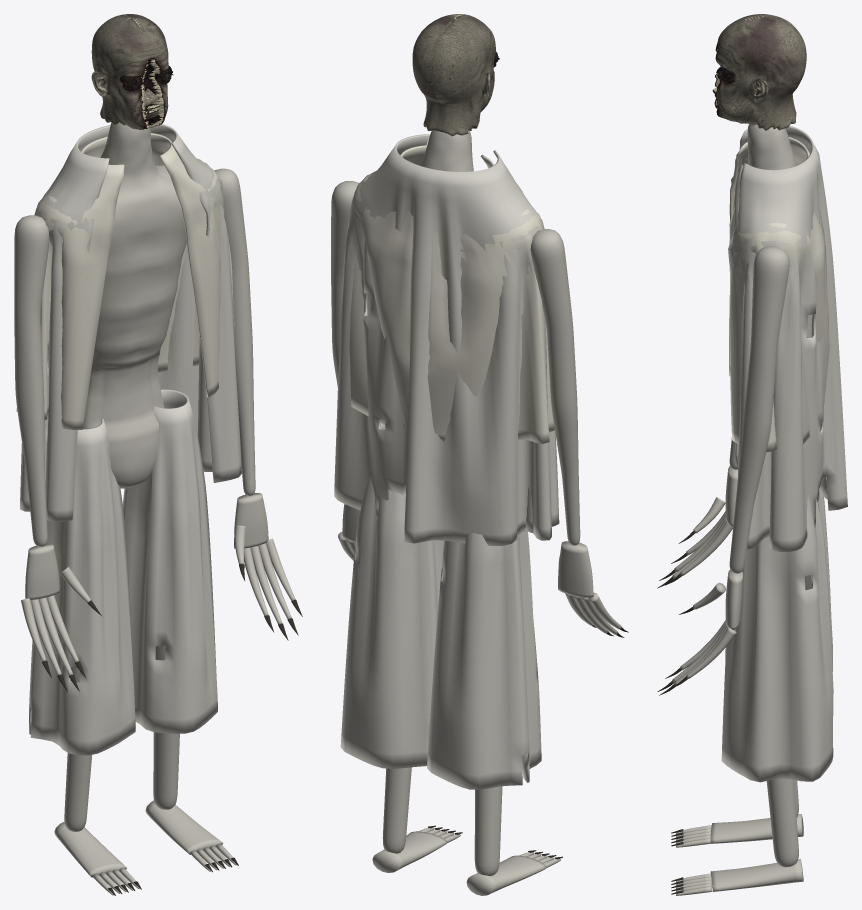
Rendered from visitor-split.glb.
The picture shows the model from 3 angles, left to right: view 1: azimuth 30°, elevation 25°; view 2: azimuth 150°, elevation 25°; view 3: azimuth 270°, elevation 25°; orthographic projection. The views are drawn at different scales.
Parts seen in each view (by area): view 1: Torso, LegR, LegL, ArmL, ArmR, Head; view 2: Torso, LegL, LegR, ArmL, Head, ArmR; view 3: Torso, LegR, ArmR, Head, LegL, ArmL.
Part boxes in pixels (<box>): Torso: <box>16,122,241,522</box>; LegR: <box>123,389,238,872</box>; LegL: <box>29,419,141,895</box>; ArmL: <box>14,215,101,691</box>; ArmR: <box>214,168,302,640</box>; Head: <box>91,14,173,130</box>; Torso: <box>334,130,559,545</box>; LegL: <box>427,531,562,895</box>; LegR: <box>340,423,462,872</box>; ArmL: <box>530,229,628,637</box>; Head: <box>412,14,499,136</box>; ArmR: <box>331,181,359,560</box>; Torso: <box>728,124,847,551</box>; LegR: <box>671,495,833,895</box>; ArmR: <box>657,246,789,695</box>; Head: <box>712,14,806,130</box>; LegL: <box>671,491,832,847</box>; ArmL: <box>657,438,738,588</box>.
Size of the model in its own units: 0.6289 by 1.97 by 0.4012.
Materials: 7 (1 with a texture image).
